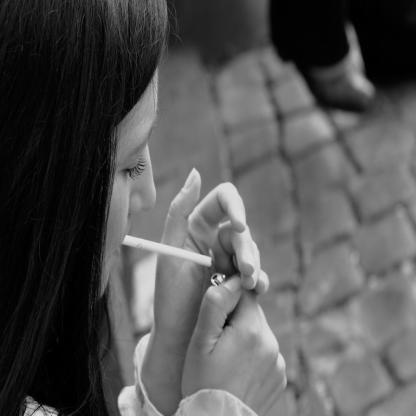smoking: (119, 234, 212, 267)
